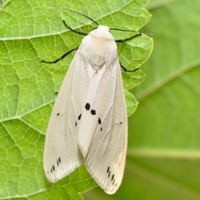insect: (43, 25, 142, 193)
